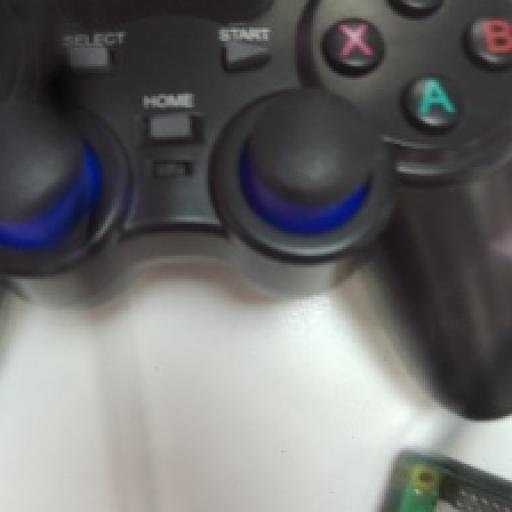game pad: (0, 0, 510, 416)
